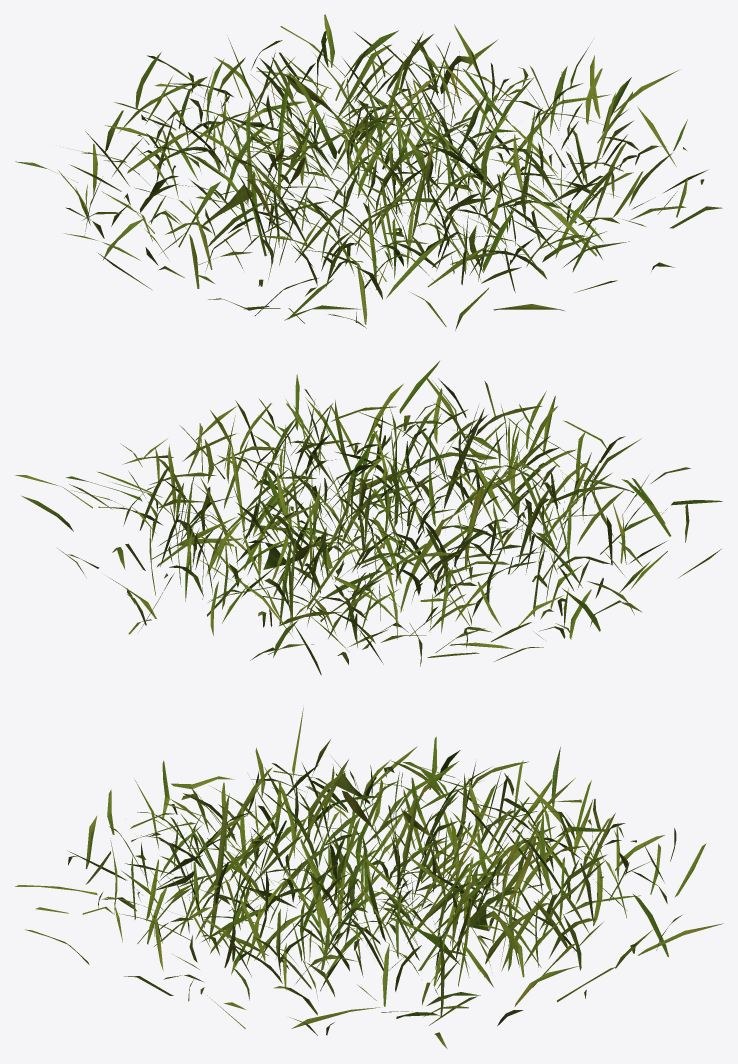
File: Grass_Tall_01.glb
The picture shows the model from 3 angles, top to bottom: view 1: azimuth 30°, elevation 25°; view 2: azimuth 150°, elevation 25°; view 3: azimuth 270°, elevation 25°; orthographic projection. The views are drawn at different scales.
Parts seen in each view (by area): view 1: Grass_Tall_01; view 2: Grass_Tall_01; view 3: Grass_Tall_01.
Boxes of the visible parts, x1,y1,x2,y2 form: Grass_Tall_01: (15,14,722,330); Grass_Tall_01: (15,361,722,675); Grass_Tall_01: (15,705,723,1048).
Size of the model in its own units: 1.88 by 0.35 by 1.8.
Materials: 1 (1 with a texture image).
